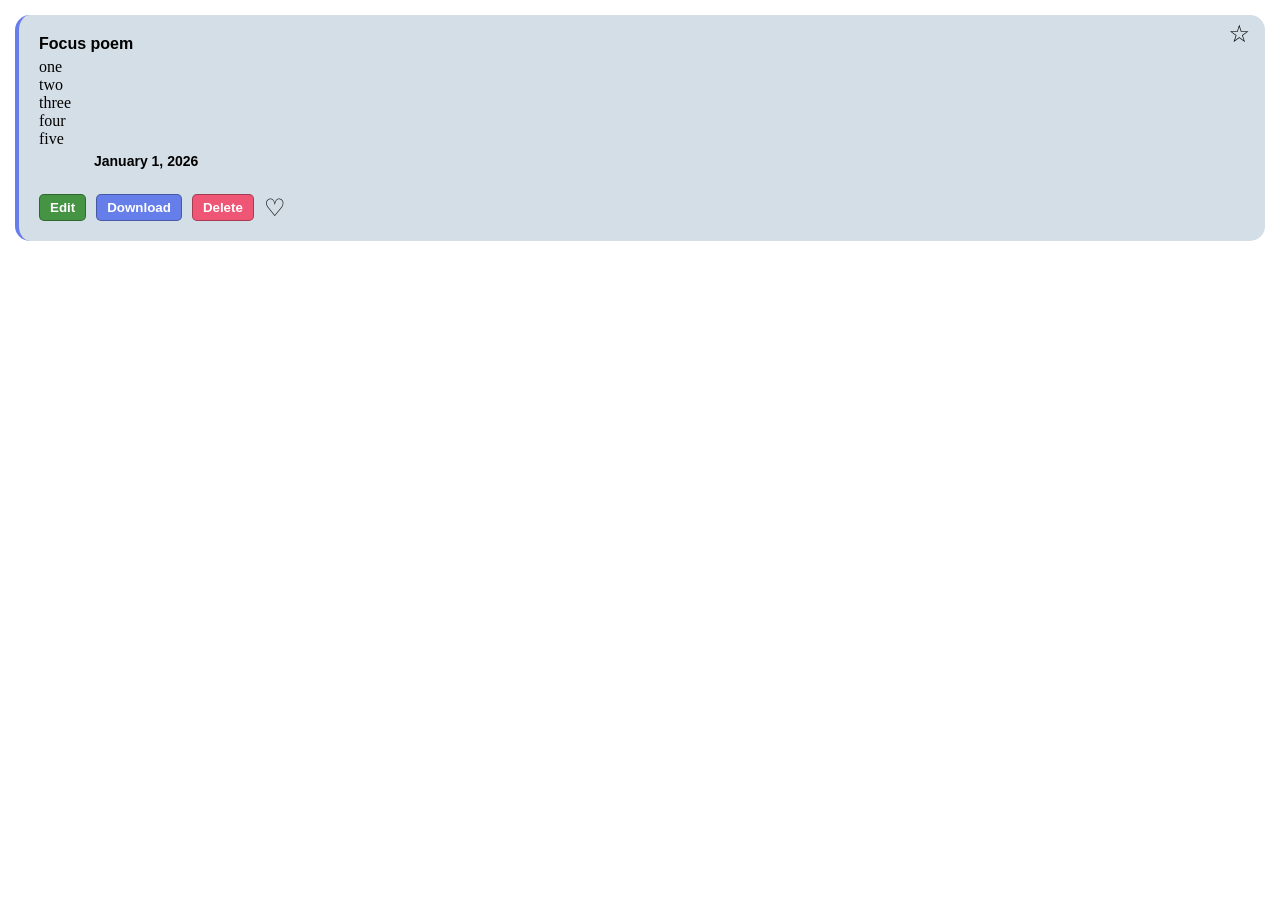
Test: card dialog focus › restores the Limerick download opener when Escape closes the dialog
The image size is (1280, 900).
Step 1. Click the button with aria-label "Download limerick: Focus poem" → coordinates (139, 208), box 96,194 -> 182,221
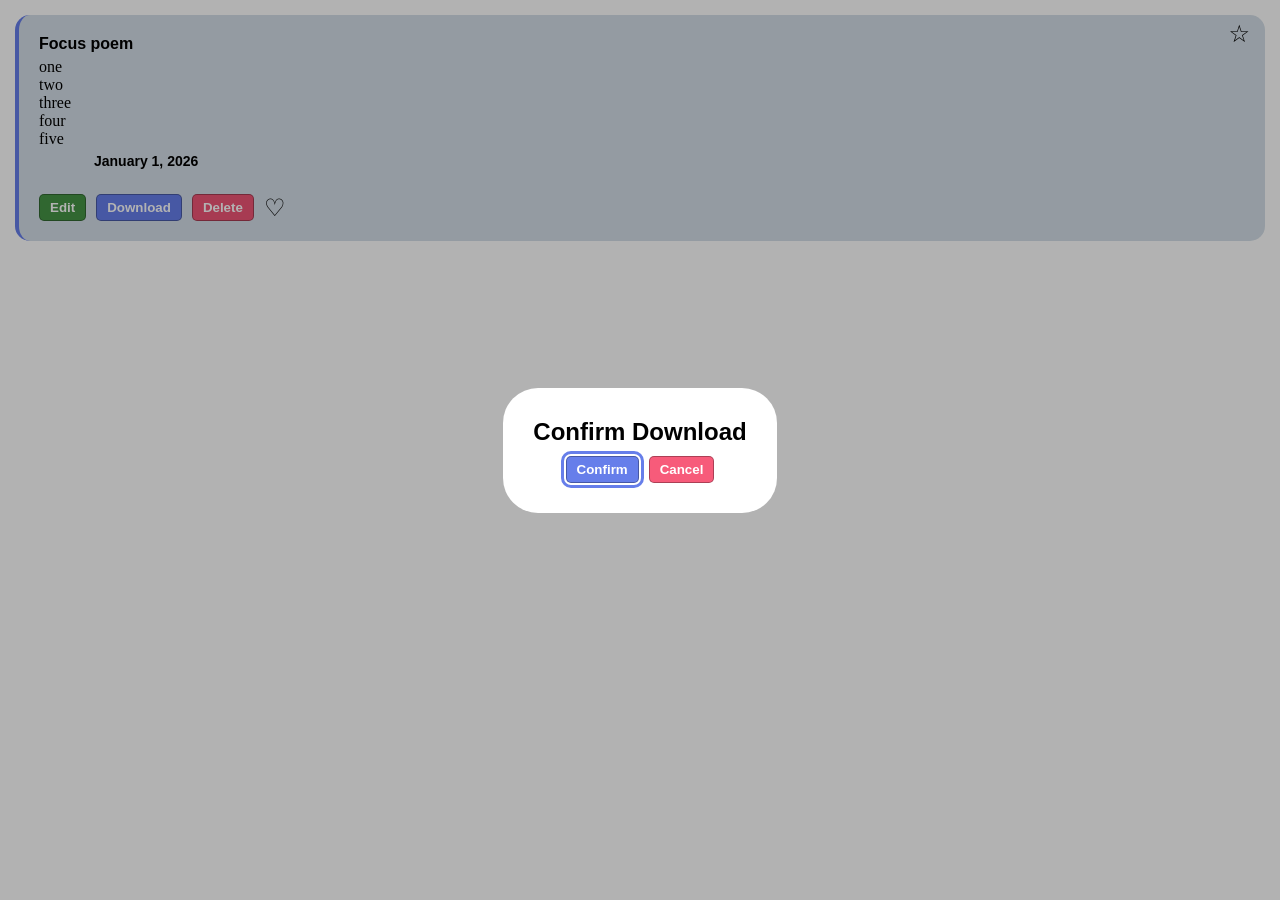
Step 2. Press Escape
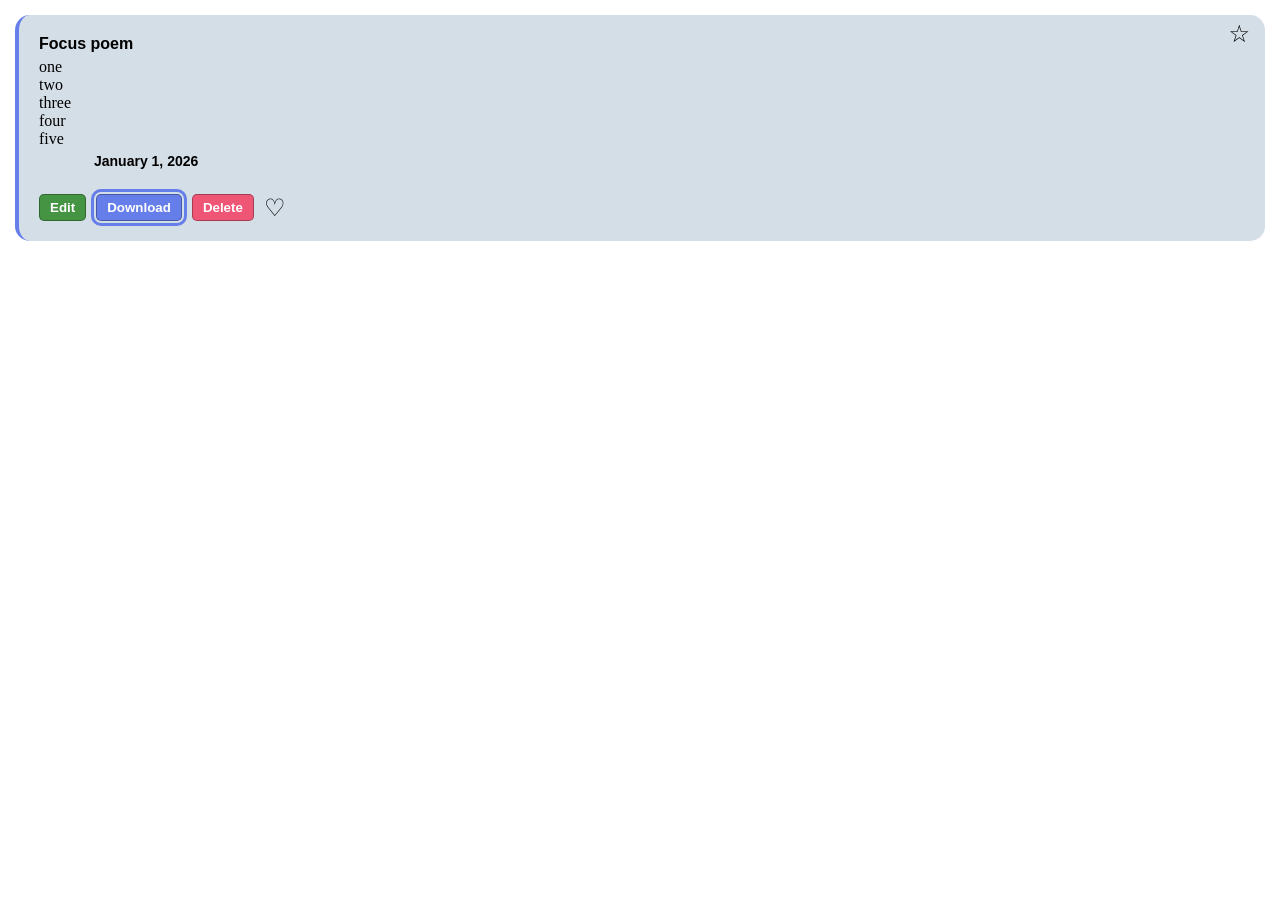
Check: the dialog is gone
